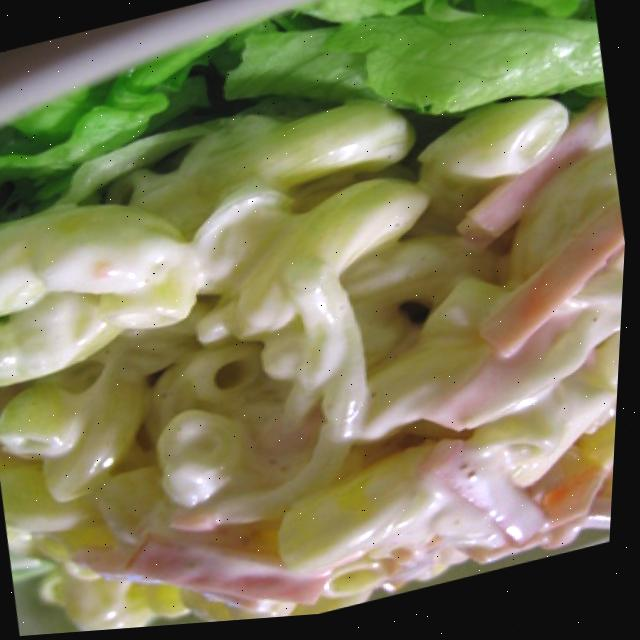蔬菜料理: (0, 10, 638, 640)
